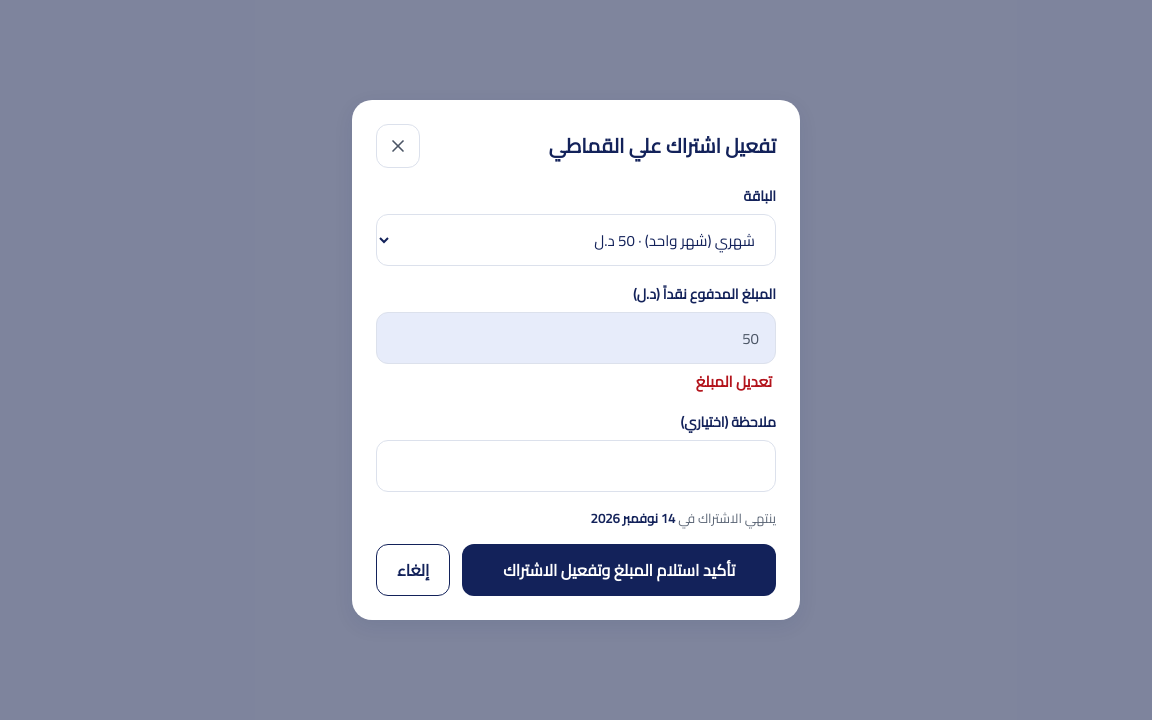
Test case: ActivateDialog › changing the plan goes back to its price and locks the amount again
The image size is (1152, 720).
Check: the number field labelled "المبلغ المدفوع نقداً (د.ل)" holds "50", box [376,312,776,364]
Click the button "تعديل المبلغ". click: click(734, 382)
box: [692,370,776,394]
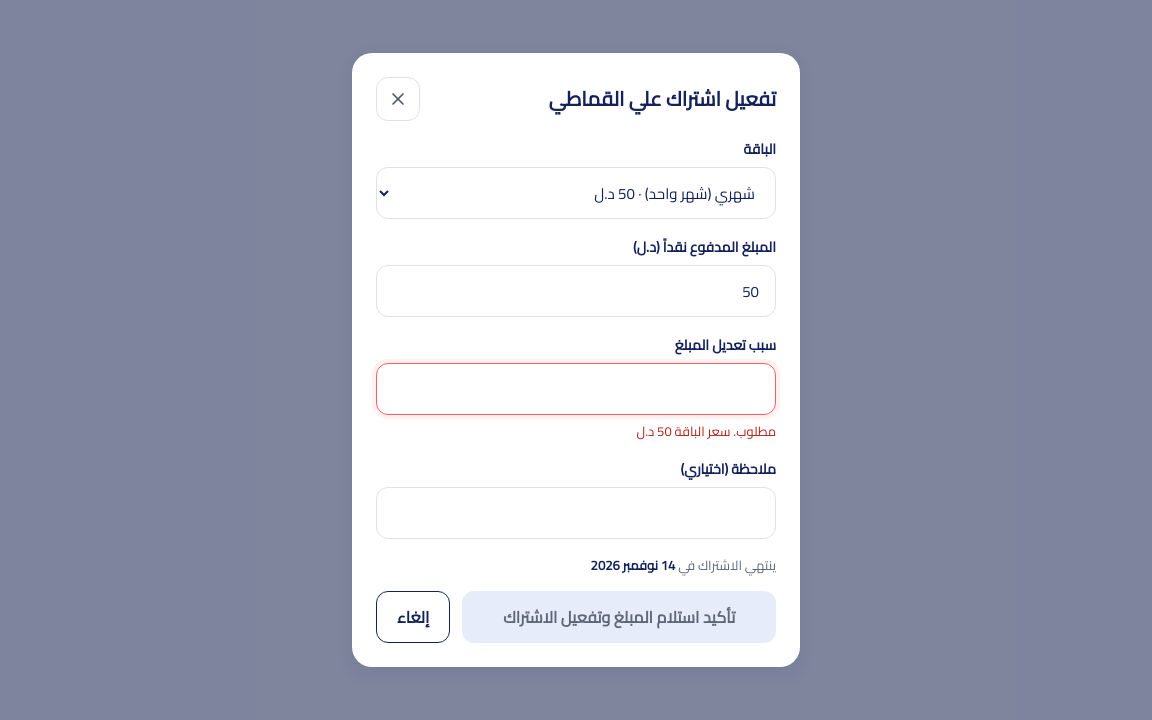
Replace the text in the number field labelled "المبلغ المدفوع نقداً (د.ل)" with "10". click: (576, 291)
box: [376,265,776,317]
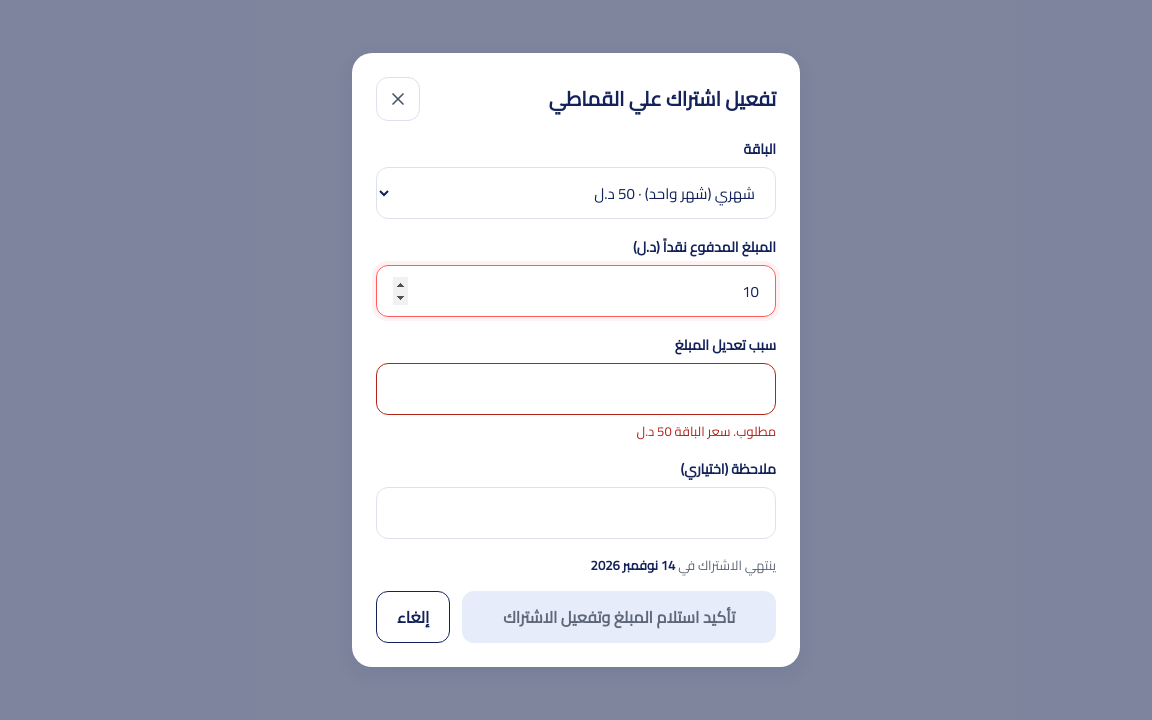
Select "نصف سنوي (6 أشهر) · 280 د.ل" in the dropdown labelled "الباقة". click: (576, 193)
box: [376,167,776,219]
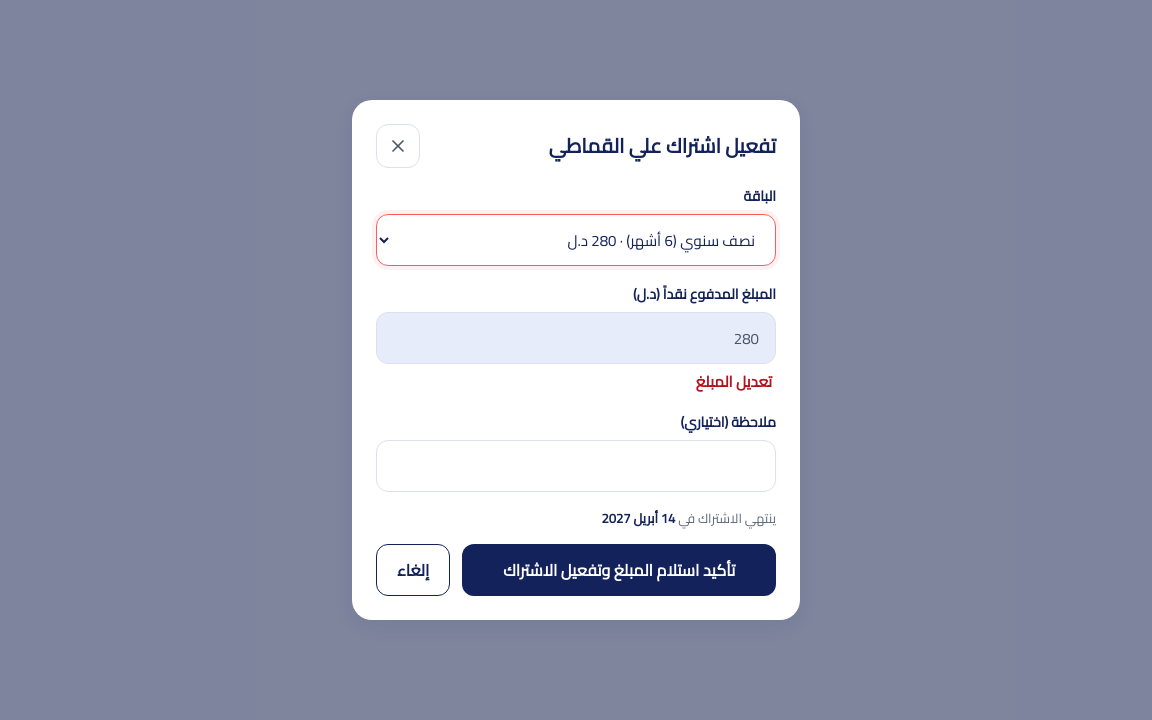
Check: the number field labelled "المبلغ المدفوع نقداً (د.ل)" holds "280", box [376,312,776,364]
Check: the label labelled "سبب تعديل المبلغ" is gone
